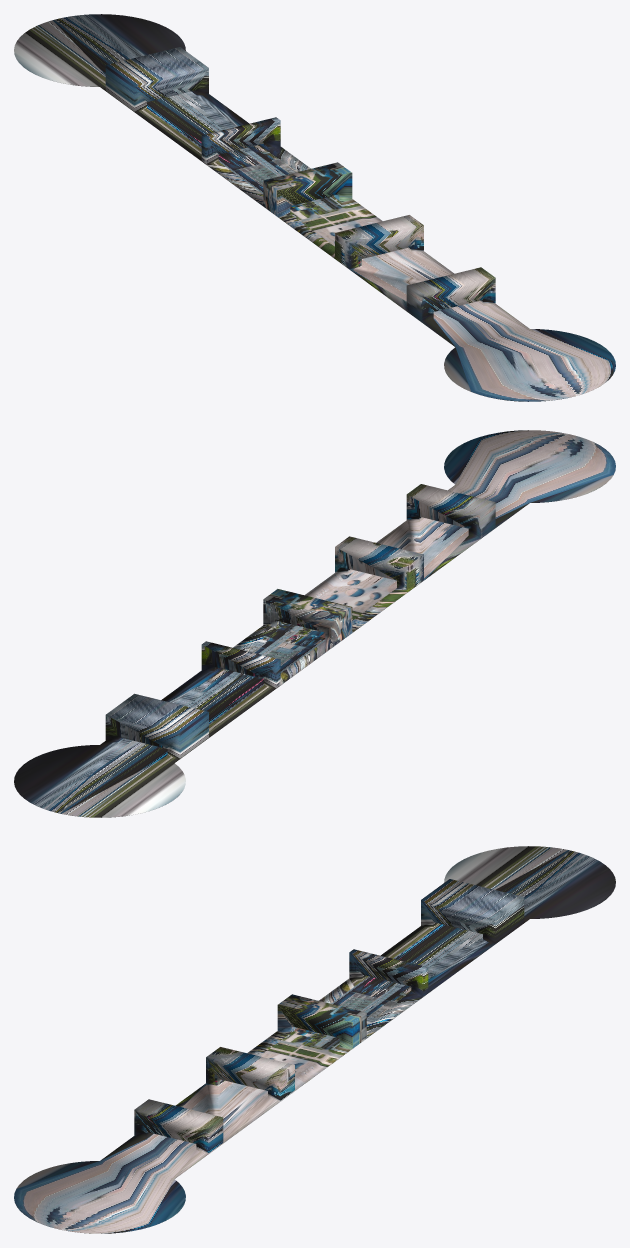
The model's file is parkour_2.dae.
3 views of the same model, one above another, from view 1: azimuth 30°, elevation 25°; view 2: azimuth 150°, elevation 25°; view 3: azimuth 330°, elevation 25° (orthographic).
Visible parts, largest first — view 1: Parkour_1 v1; view 2: Parkour_1 v1; view 3: Parkour_1 v1.
Boxes of the visible parts, x1=… form: Parkour_1 v1: x1=14, y1=14, x2=615, y2=401; Parkour_1 v1: x1=14, y1=430, x2=615, y2=817; Parkour_1 v1: x1=14, y1=846, x2=615, y2=1233.
Bounding box in the file's own units: 5.99 × 35.99 × 1.01.
1 material, 1 textured.
